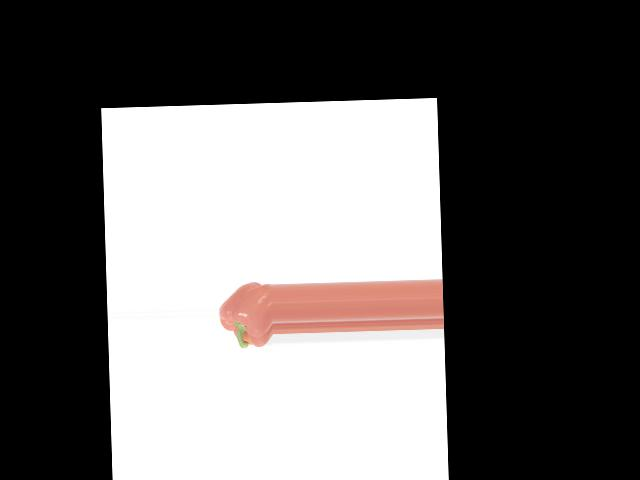bell_pepper: (217, 274, 274, 358)
